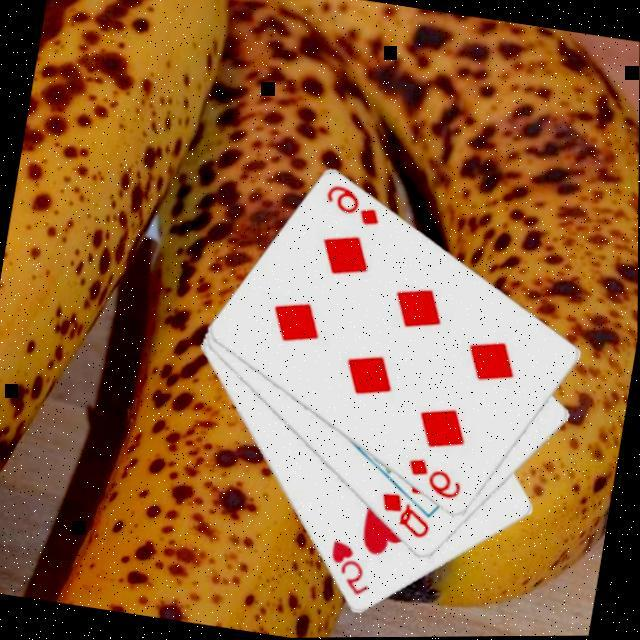5H: (323, 536, 381, 601)
6D: (403, 453, 471, 504), (321, 180, 389, 231)
QD: (375, 487, 440, 543)
